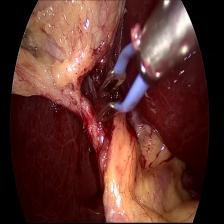Bipolar: (90, 18, 184, 136)
